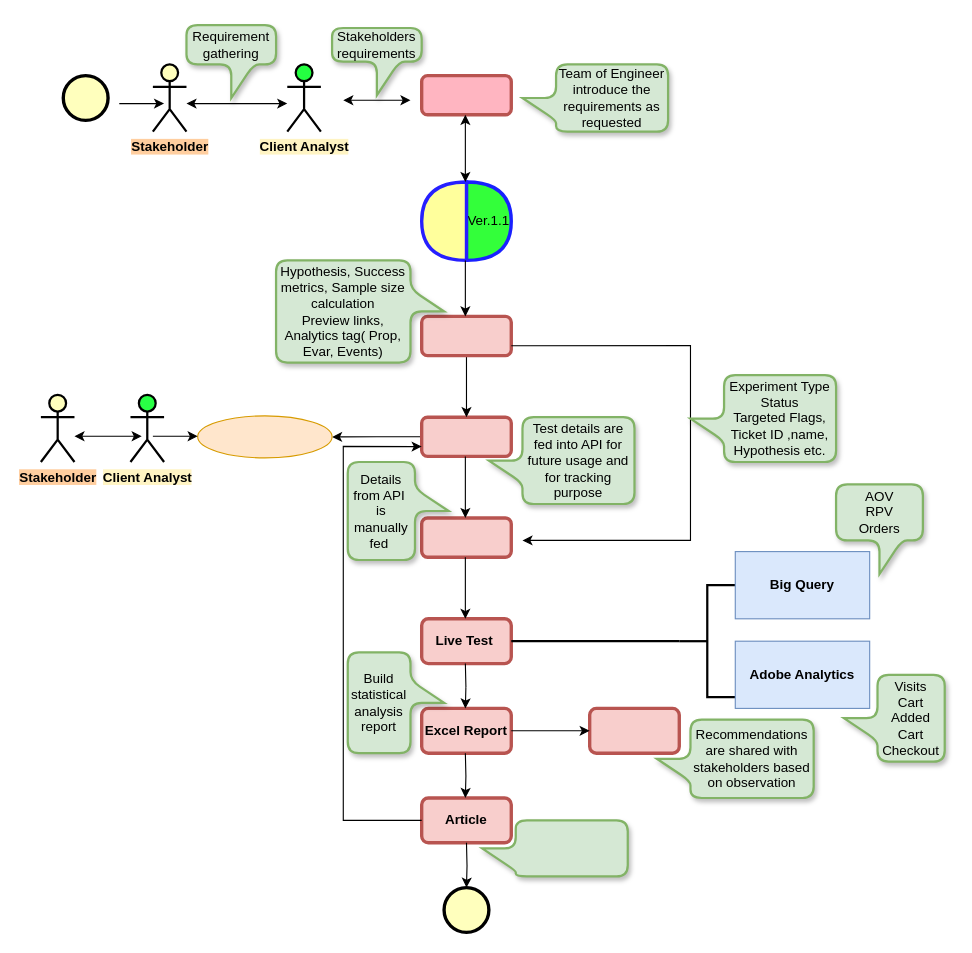
This 972x953 diagram has some shape labels left out. Here are the shapes that lost their labels. From the top down, the centre of each, then its label:
the point at 85,97: Start
the point at 465,94: Dev
the point at 443,221: Ver.1.0
the point at 465,335: QA Email
the point at 264,436: Update/Comments
the point at 465,436: Zendesk
the point at 465,537: Smart Sheet
the point at 633,730: Results
the point at 555,849: Test details and outcome stored as article
the point at 466,909: End
